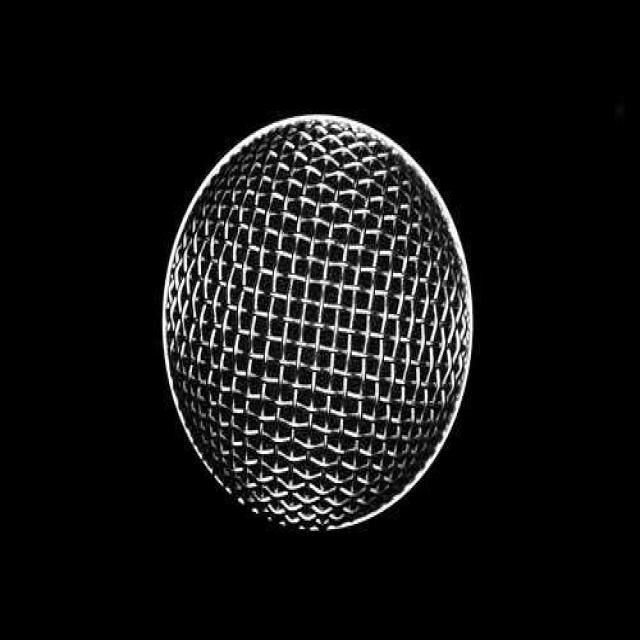microphone: (140, 107, 488, 538)
